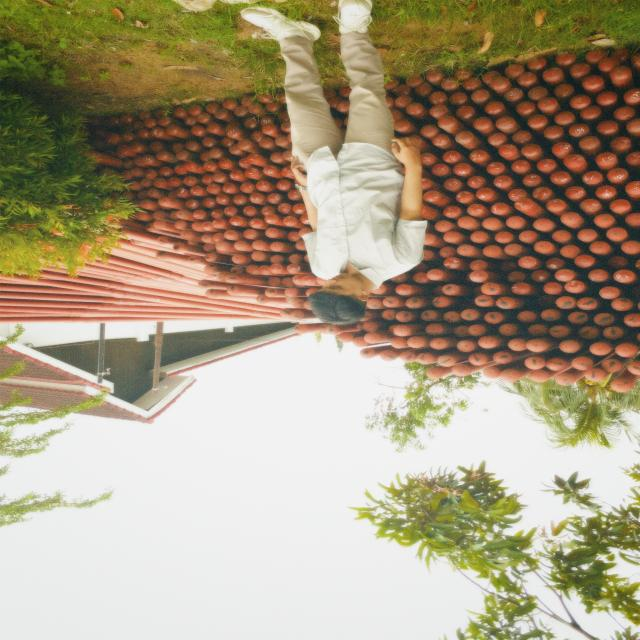nohelmet: (305, 261, 377, 333)
